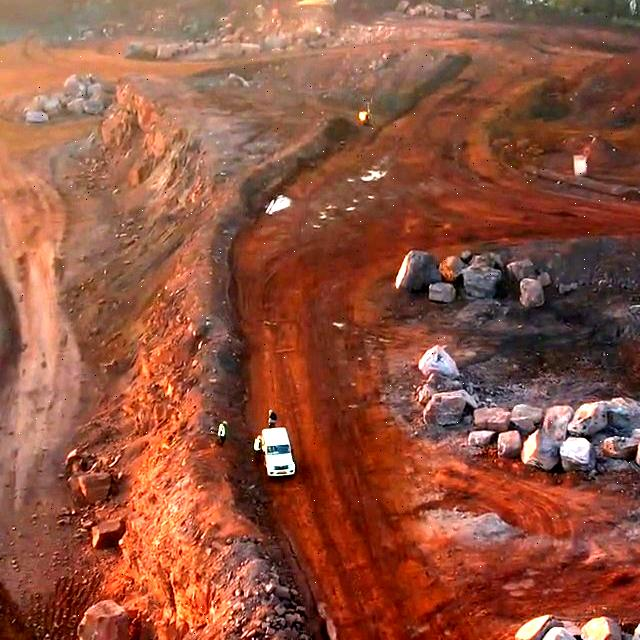Excavator: (249, 0, 348, 13)
car: (266, 427, 293, 477)
person: (217, 420, 230, 444), (267, 408, 280, 431), (250, 436, 262, 459)
